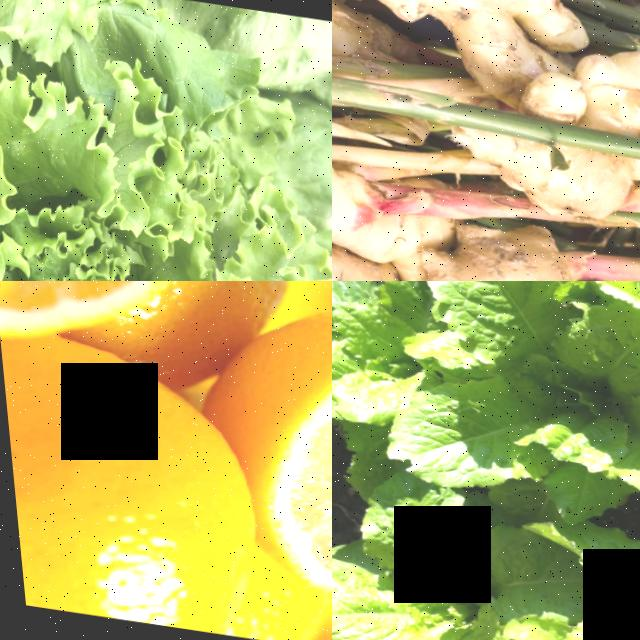ginger: (332, 0, 595, 71), (393, 211, 592, 281), (332, 134, 418, 281)
lemon: (216, 283, 332, 640)
lettuce: (0, 0, 332, 281), (332, 342, 611, 640), (392, 281, 640, 408)
